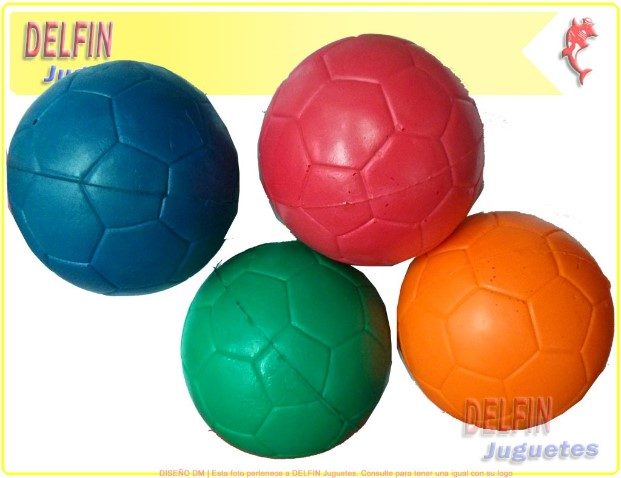blue ball: (7, 58, 243, 298)
red ball: (257, 32, 487, 268)
